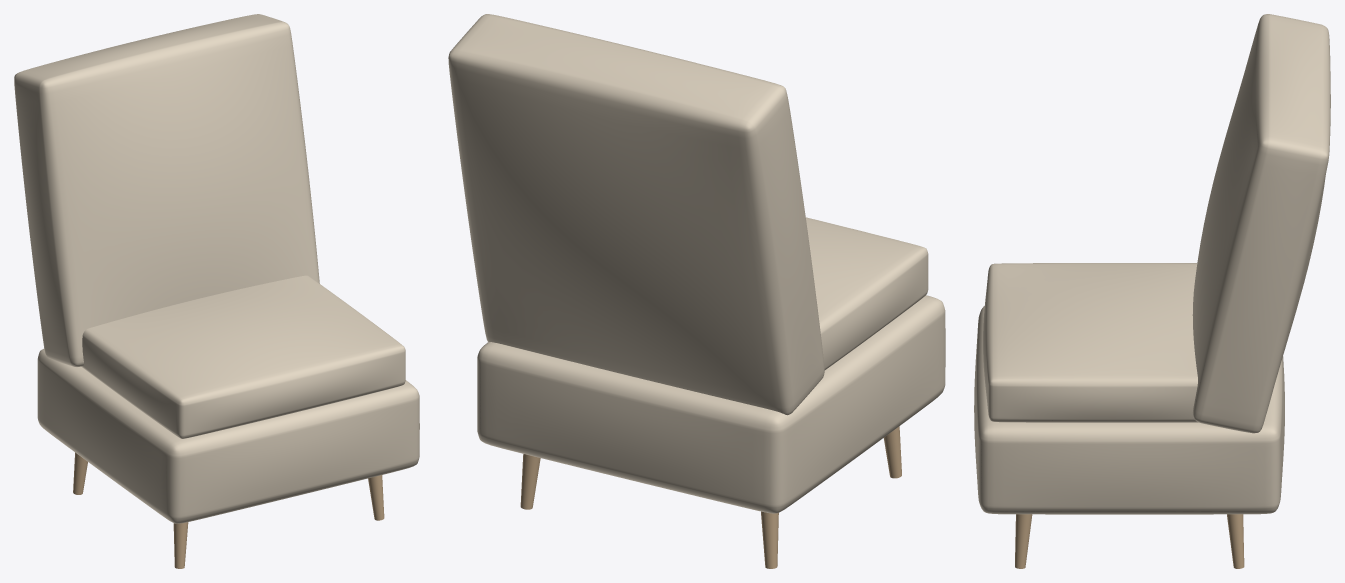
The model's file is lounge_chair.glb.
3 views of the same model, side by side, from view 1: azimuth 30°, elevation 25°; view 2: azimuth 150°, elevation 25°; view 3: azimuth 270°, elevation 25° (orthographic). The views are drawn at different scales.
Parts seen in each view (by area): view 1: Back, SeatCushion, SeatBase, Leg_-0.25-0.22, Leg_0.25-0.22; view 2: Back, SeatBase, SeatCushion, Leg_-0.250.22, Leg_0.250.22, Leg_-0.25-0.22; view 3: Back, SeatCushion, SeatBase, Leg_0.250.22, Leg_0.25-0.22.
Part boxes in pixels (x1,y1,x2,y2): Back: [14, 14, 319, 366]; SeatCushion: [82, 275, 405, 438]; SeatBase: [37, 348, 419, 523]; Leg_-0.25-0.22: [173, 522, 188, 568]; Leg_0.25-0.22: [368, 475, 384, 520]; Back: [448, 14, 824, 415]; SeatBase: [477, 295, 945, 513]; SeatCushion: [805, 217, 928, 370]; Leg_-0.250.22: [761, 511, 778, 568]; Leg_0.250.22: [520, 454, 540, 509]; Leg_-0.25-0.22: [883, 426, 901, 478]; Back: [1192, 14, 1330, 433]; SeatCushion: [983, 263, 1198, 422]; SeatBase: [974, 306, 1284, 514]; Leg_0.250.22: [1227, 514, 1244, 568]; Leg_0.25-0.22: [1015, 514, 1032, 568].
Bounding box in the file's own units: 0.663 × 1 × 0.7333.
